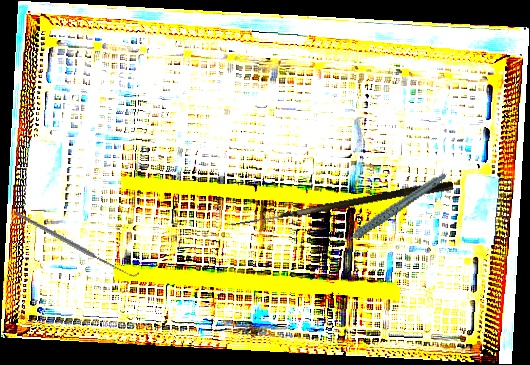Handpiece: (325, 172, 456, 247)
Hook Surgical: (14, 172, 140, 314), (230, 176, 454, 237)
